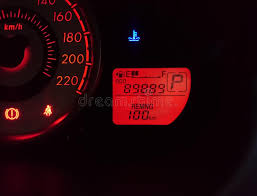Digital_Meter: (113, 74, 190, 96)
